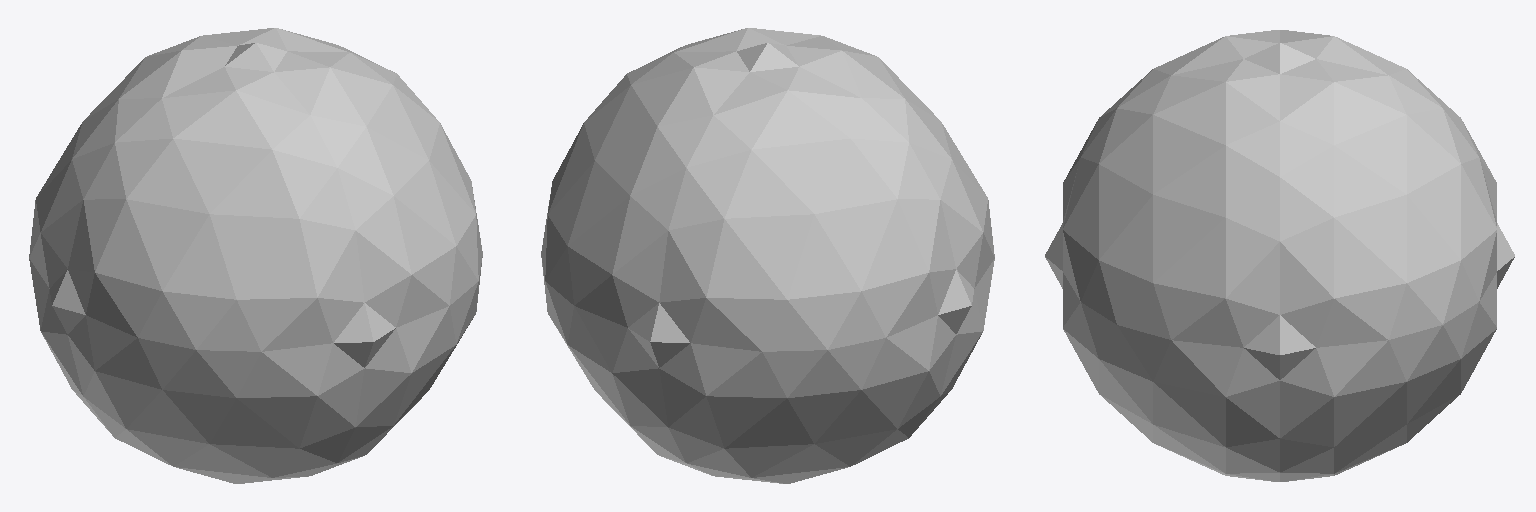
Rendered from 1240 Neptune.obj.
3 views of the same model, side by side, from view 1: azimuth 30°, elevation 25°; view 2: azimuth 150°, elevation 25°; view 3: azimuth 270°, elevation 25° (orthographic).
Visible parts, largest first — view 1: neptune; view 2: neptune; view 3: neptune.
Part boxes in pixels (left/top/right/bottom): neptune: left=29, top=28, right=482, bottom=483; neptune: left=541, top=28, right=994, bottom=483; neptune: left=1045, top=30, right=1514, bottom=481.
Bounding box in the file's own units: 208 × 208 × 208.